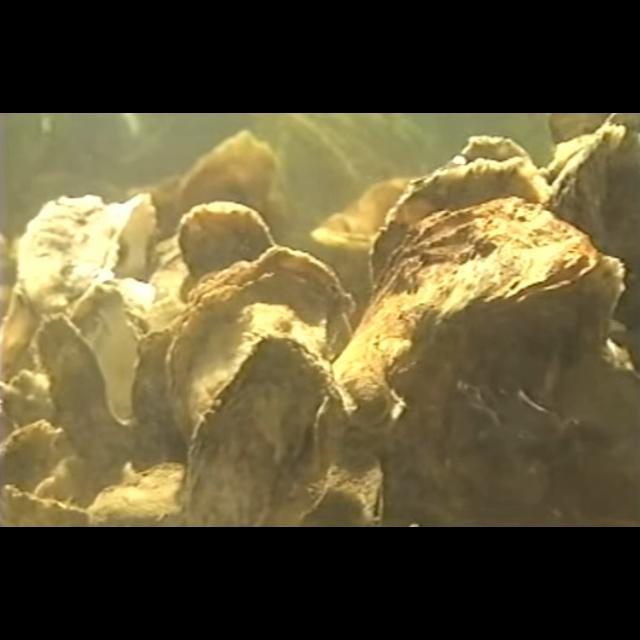Oyster-Closed: (333, 192, 601, 424), (167, 246, 357, 452), (180, 332, 342, 528), (362, 155, 542, 299), (16, 192, 126, 306), (175, 127, 278, 231), (177, 200, 275, 282), (84, 462, 188, 528)
Oyster-Open: (34, 278, 154, 472)
